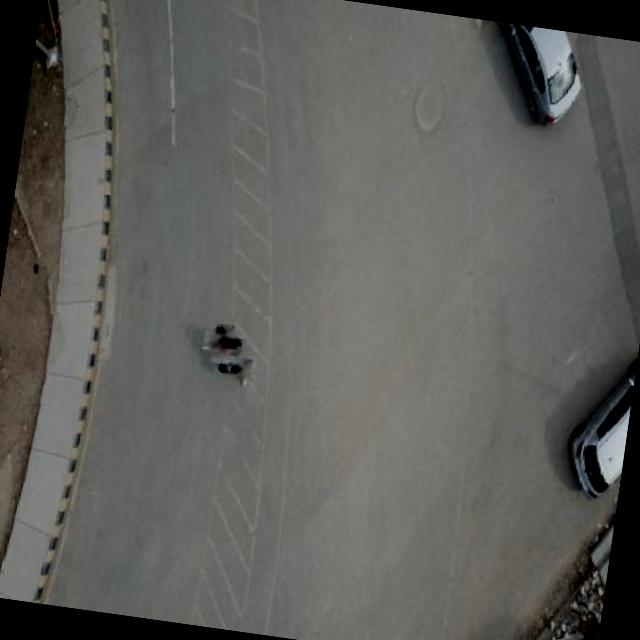Person: (205, 326, 238, 362), (220, 351, 253, 384)
